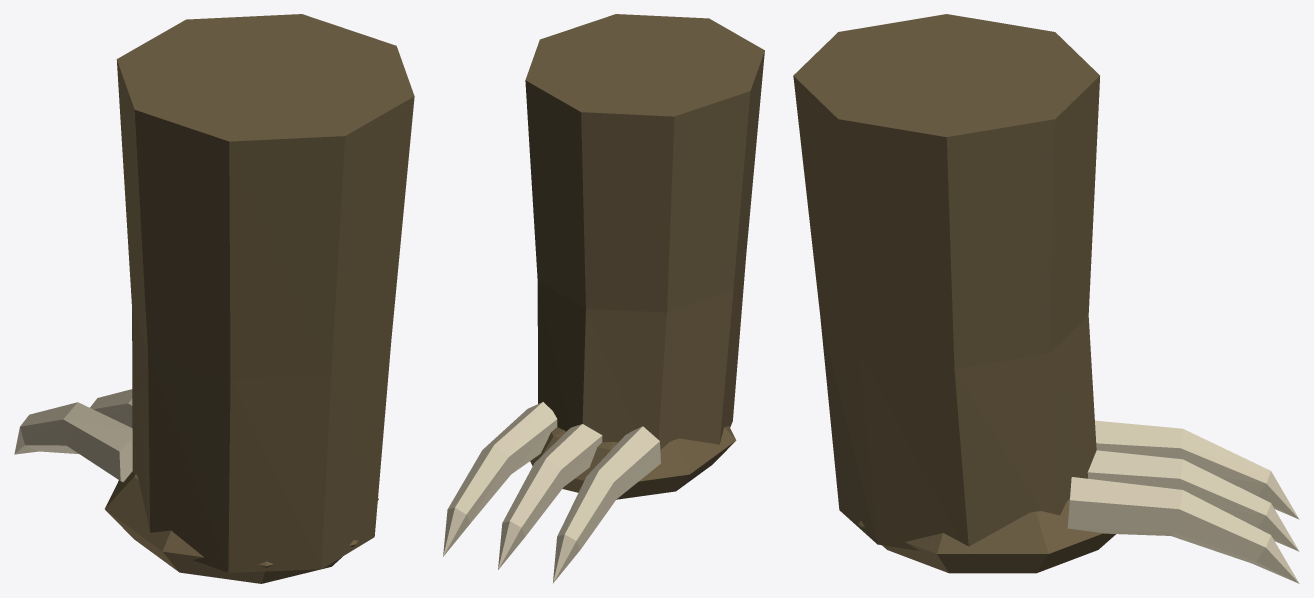
Rendered from animal_megasloth_leg.obj.
3 views of the same model, side by side, from view 1: azimuth 30°, elevation 25°; view 2: azimuth 150°, elevation 25°; view 3: azimuth 270°, elevation 25° (orthographic). The views are drawn at different scales.
Visible parts, largest first — view 1: animal_megasloth_leg; view 2: animal_megasloth_leg; view 3: animal_megasloth_leg.
Boxes of the visible parts, x1,y1,x2,y2 form: animal_megasloth_leg: [14, 14, 414, 583]; animal_megasloth_leg: [443, 14, 764, 583]; animal_megasloth_leg: [793, 14, 1299, 583].
Size of the model in its own units: 0.38 by 0.685 by 0.66.
